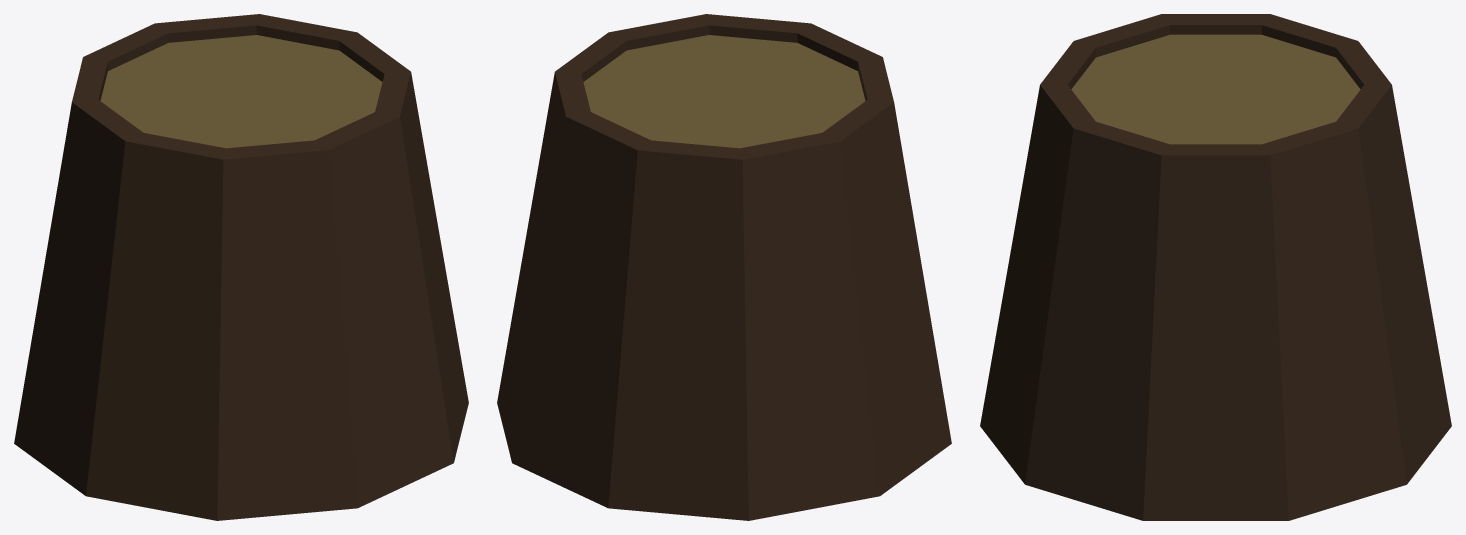
The model's file is TreeTrunkV2.fbx.
3 views of the same model, side by side, from view 1: azimuth 30°, elevation 25°; view 2: azimuth 150°, elevation 25°; view 3: azimuth 270°, elevation 25° (orthographic).
Parts seen in each view (by area): view 1: Cylinder; view 2: Cylinder; view 3: Cylinder.
Part boxes in pixels (box(x1,y1,x2,y2)): Cylinder: box(14, 14, 468, 520); Cylinder: box(497, 14, 951, 520); Cylinder: box(980, 14, 1451, 520).
Bounding box in the file's own units: 70.4 × 59.08 × 74.02.
